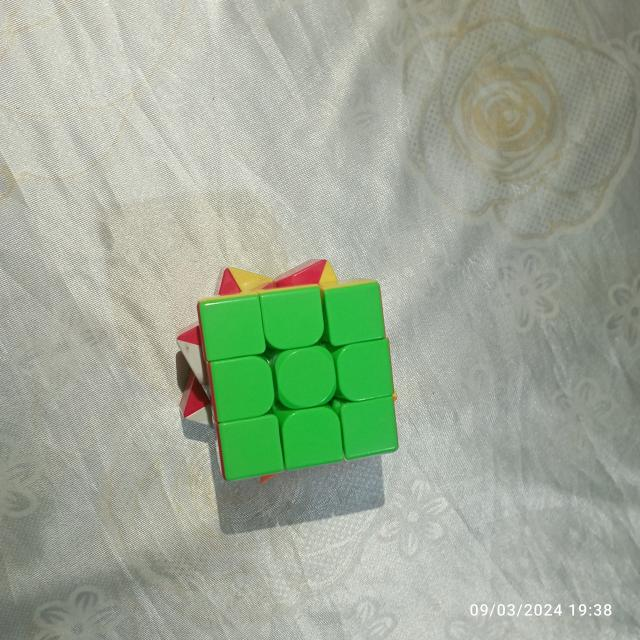Rub: (173, 253, 408, 489)
